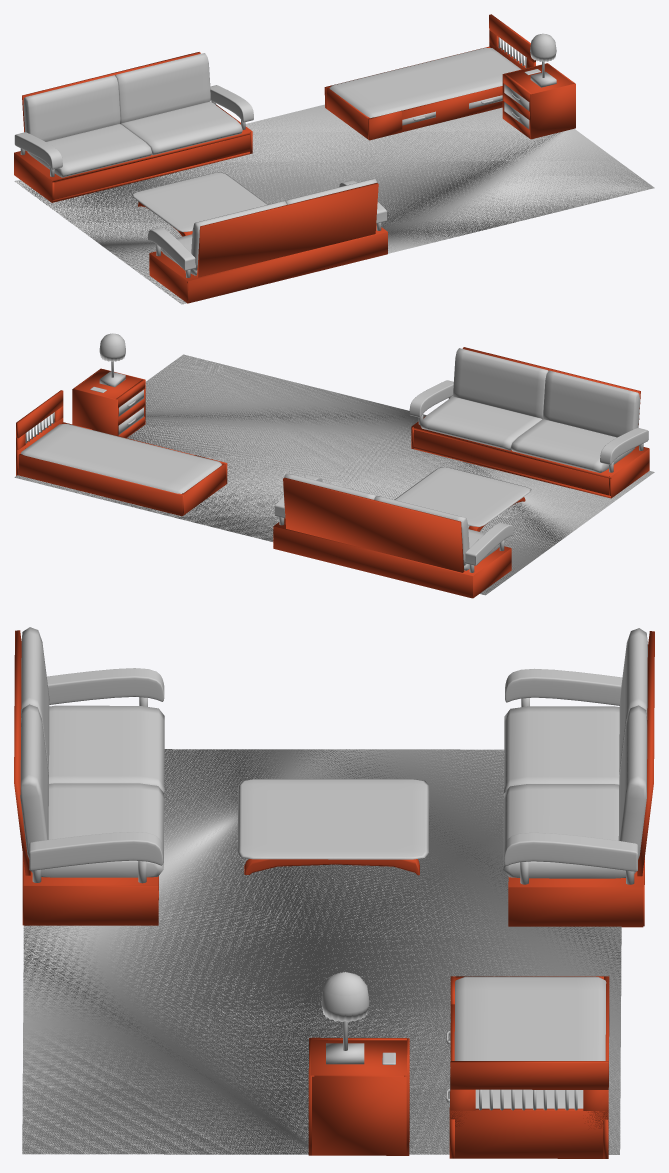
The model's file is sofa.obj.
3 views of the same model, one above another, from view 1: azimuth 30°, elevation 25°; view 2: azimuth 150°, elevation 25°; view 3: azimuth 270°, elevation 25° (orthographic). The views are drawn at different scales.
Parts seen in each view (by area): view 1: home; view 2: home; view 3: home.
Part boxes in pixels (x1,y1,x2,y2): home: (14,14,654,304); home: (14,333,654,598); home: (14,627,654,1158).
Size of the model in its own units: 9.78 by 1.89 by 6.45.
